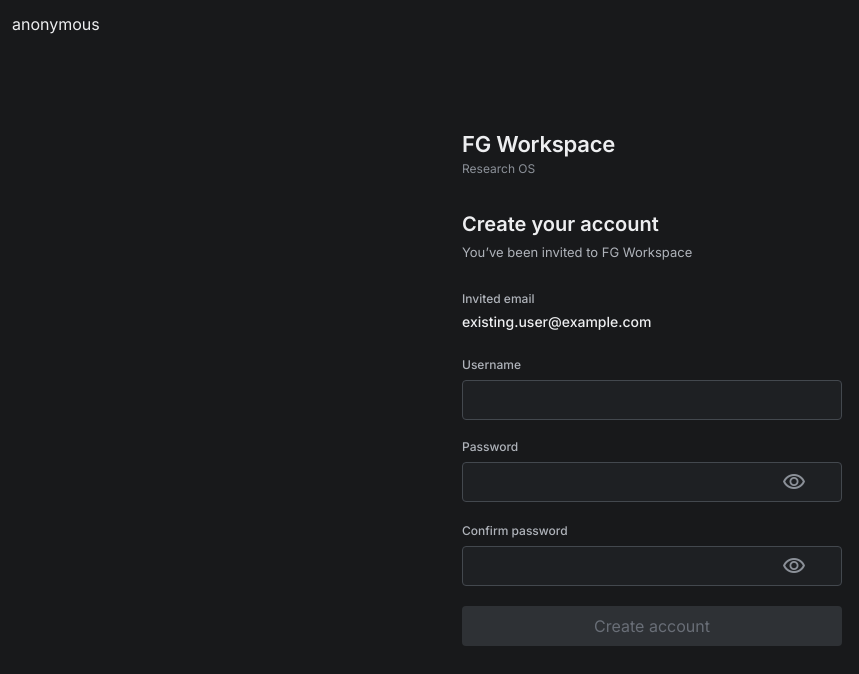
Test: RegistrationPage › clears the mismatch error and danger border as soon as the values match
Check: the field labelled "Username" is shown, box [462,380,842,420]
Type "something" into the password field labelled "Confirm password" at (652, 566), box [462,546,842,586]
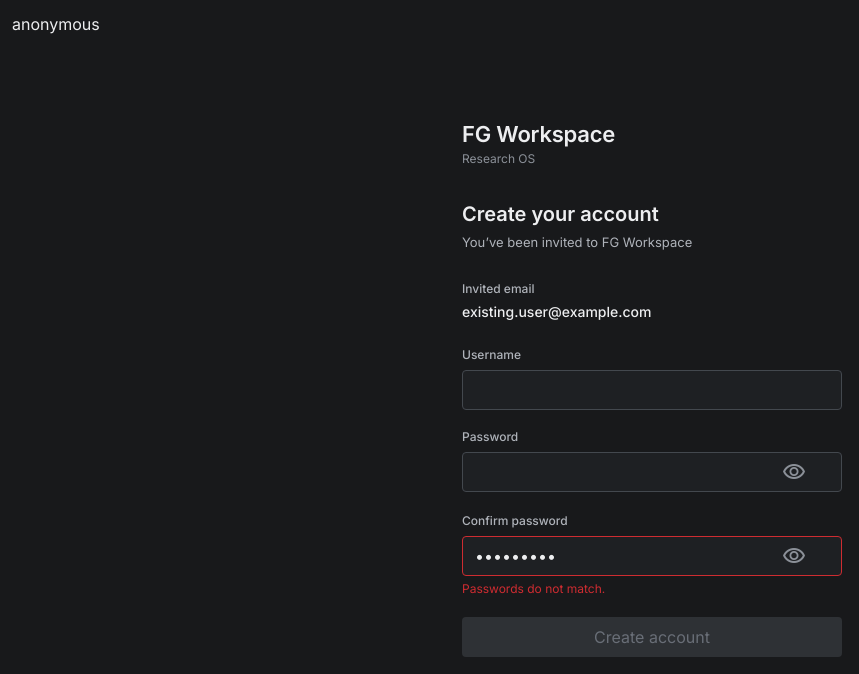
Check: the message reads "Passwords do not match.", box [462,580,605,596]
Clear the password field labelled "Confirm password" at (652, 556), box [462,536,842,576]
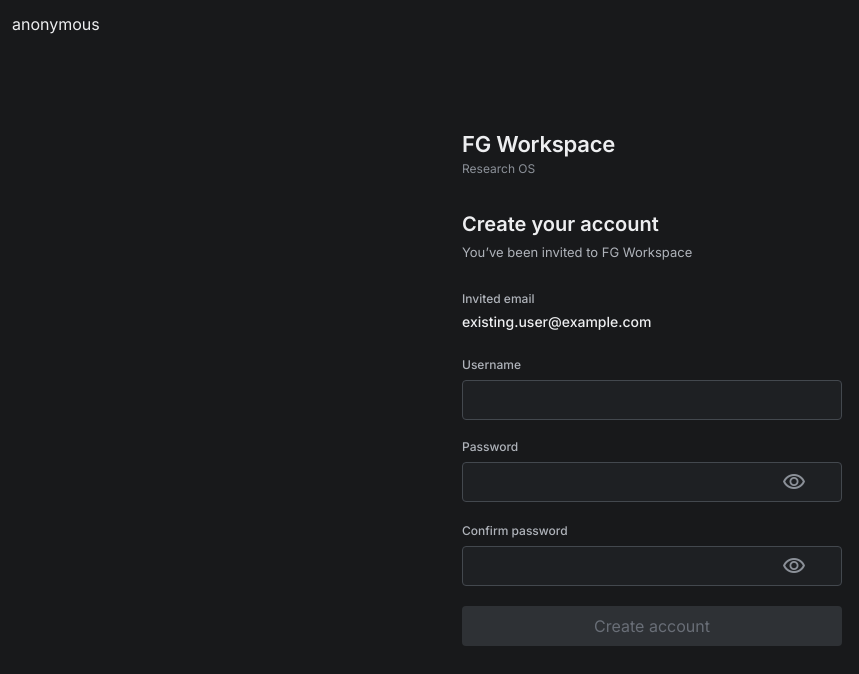
Check: the message "Passwords do not match." is gone
